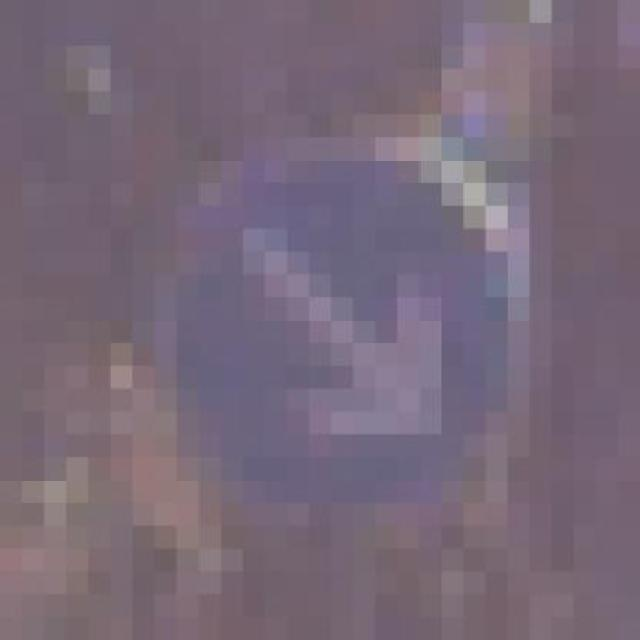Keep-Right: (154, 114, 552, 549)
